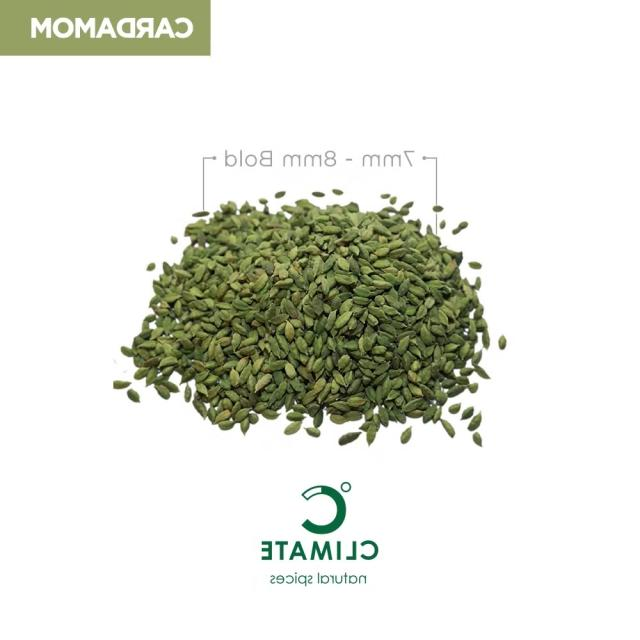Cardamom: (112, 197, 493, 427)
